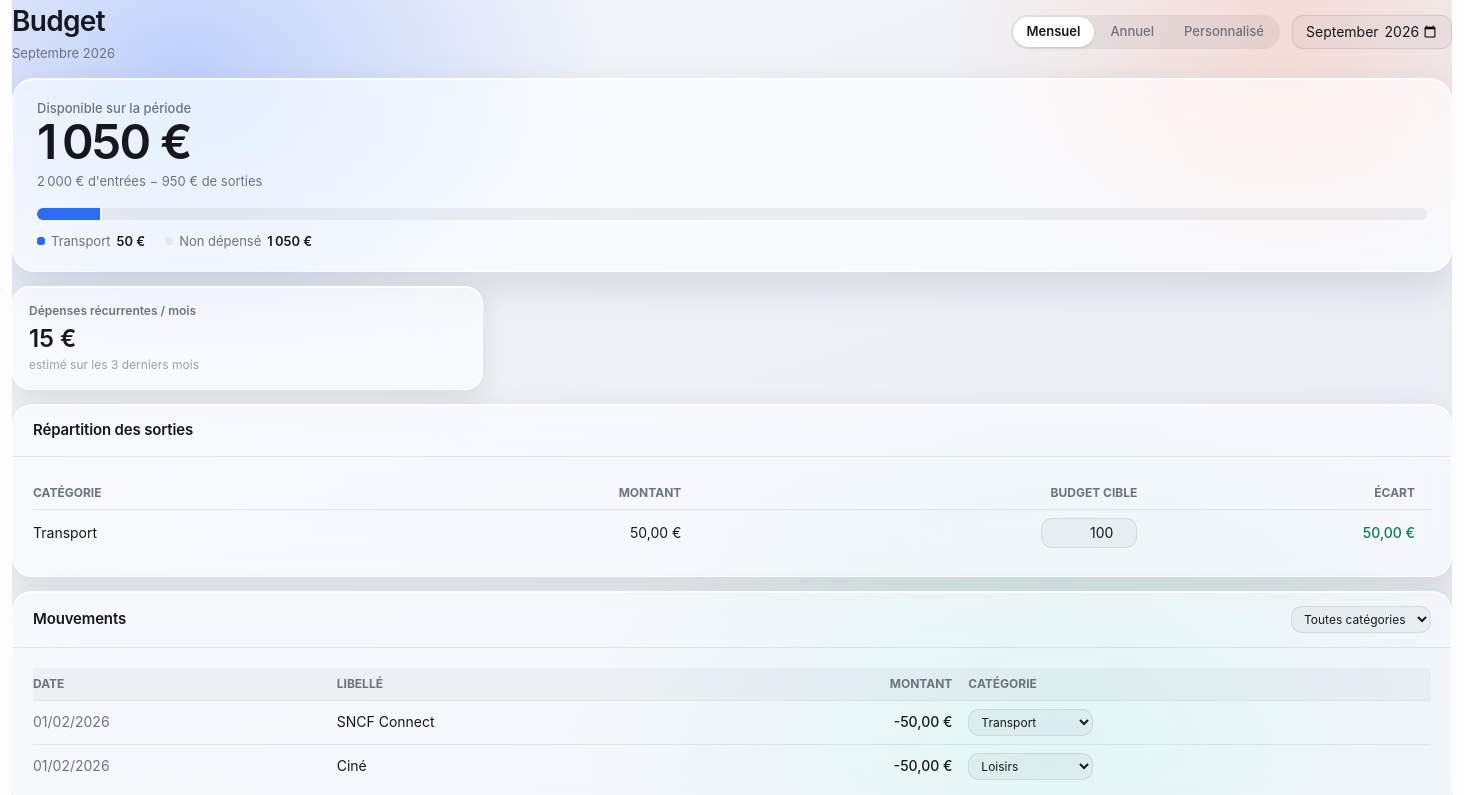
BudgetPage — mouvements (backlog 2.N.1) › le filtre par catégorie masque les mouvements des autres catégories
Check: the text "SNCF Connect" is shown, box [337, 700, 710, 744]
Check: the text "Ciné" is shown, box [337, 744, 710, 788]
Select "Transport" in the dropdown showing "Toutes catégories" in the row of "Mouvements" at {"x": 1361, "y": 619}, box [1291, 606, 1431, 632]
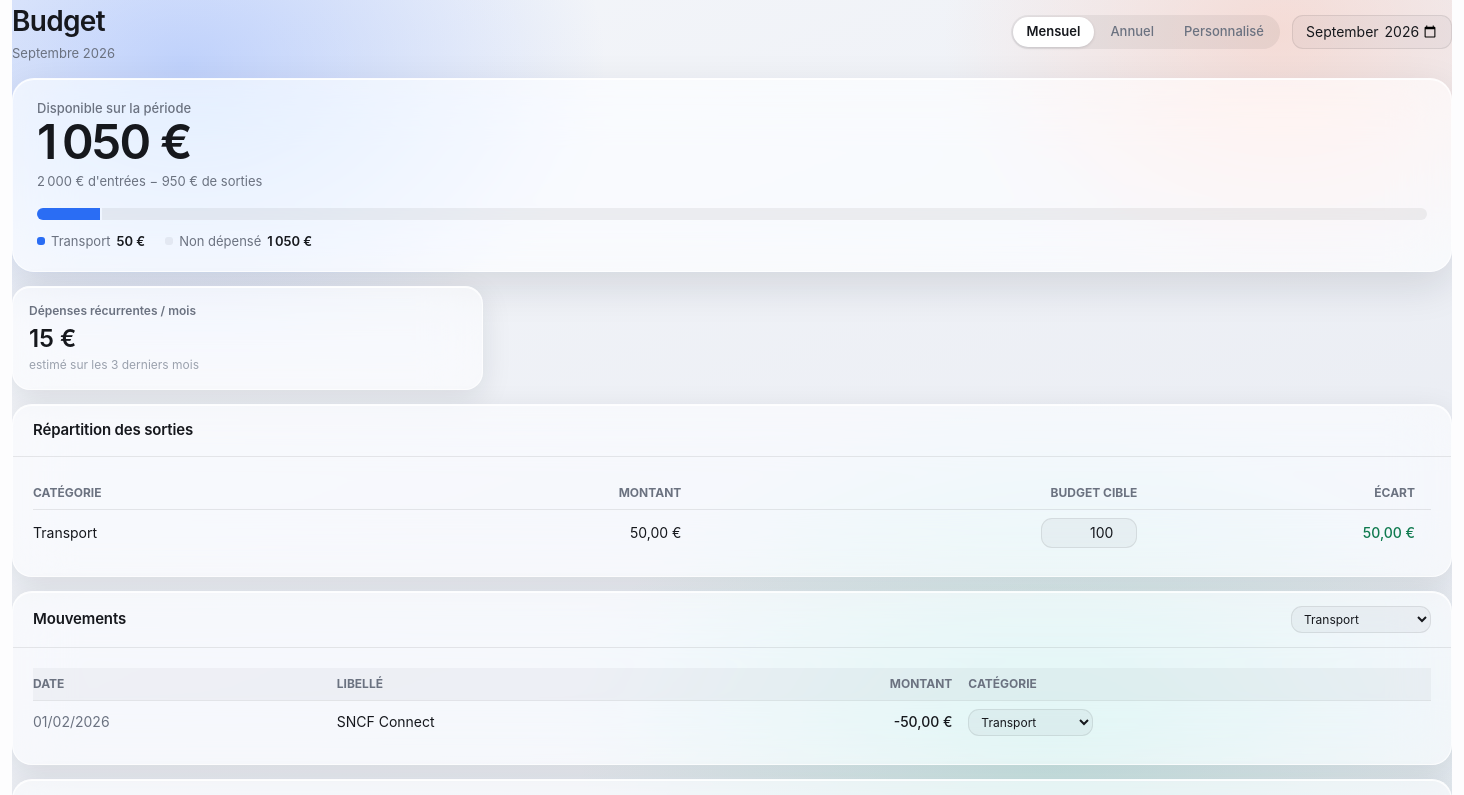
Check: the text "SNCF Connect" is shown, box [337, 700, 710, 744]
Check: the text "Ciné" is gone
